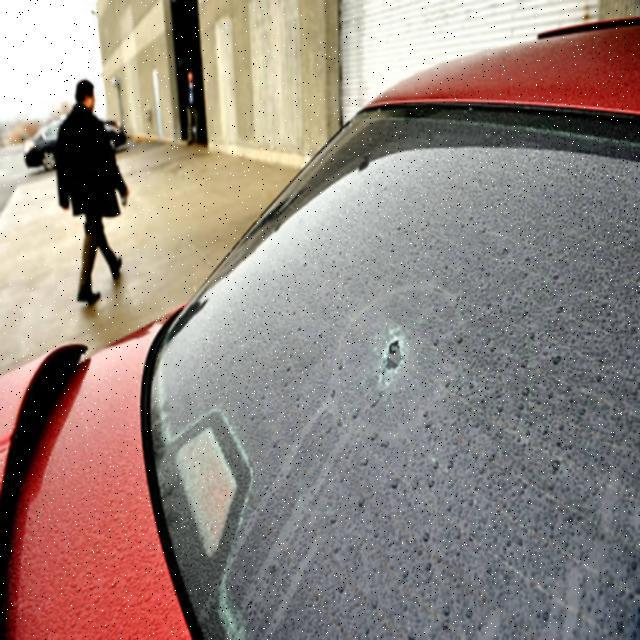Rear-windscreen-Damage: (99, 84, 638, 639)
